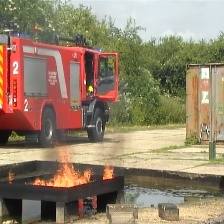fire: (29, 149, 116, 184)
